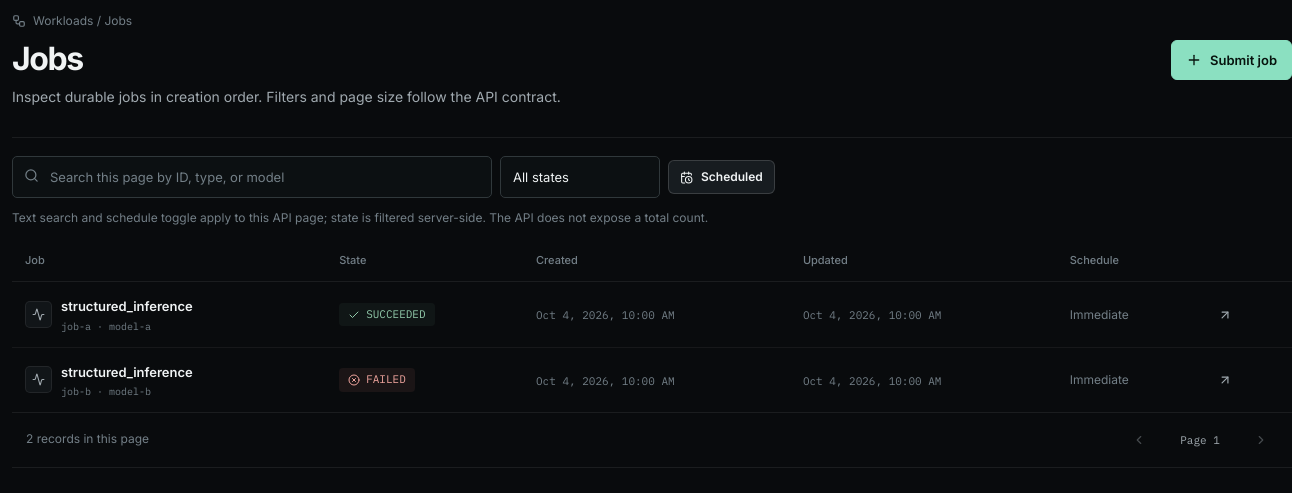
Test: jobs page › sends state filters to the API and searches only the returned page
Check: the text "job-a · model-a" is shown, box [61,320,151,333]
Select "FAILED" in the dropdown named "Filter by state" at (580, 177), box [500,156,660,198]
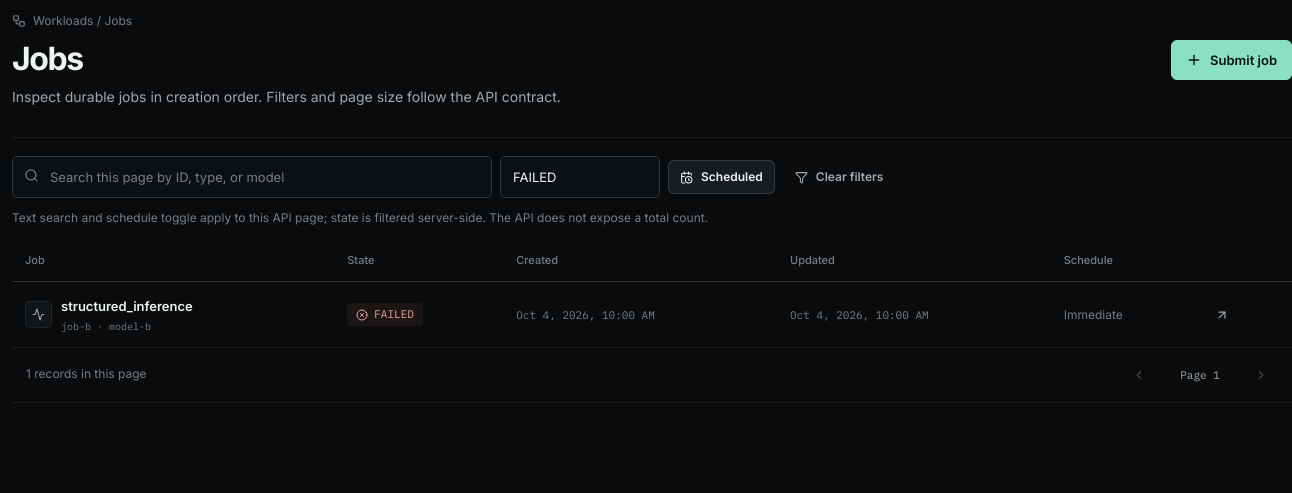
Check: the text "job-b · model-b" is shown, box [61,320,151,333]
Check: the link "job-a · model-a" is gone
Type "no-match" into the field named "Search visible jobs" at (252, 177), box [12,156,492,198]
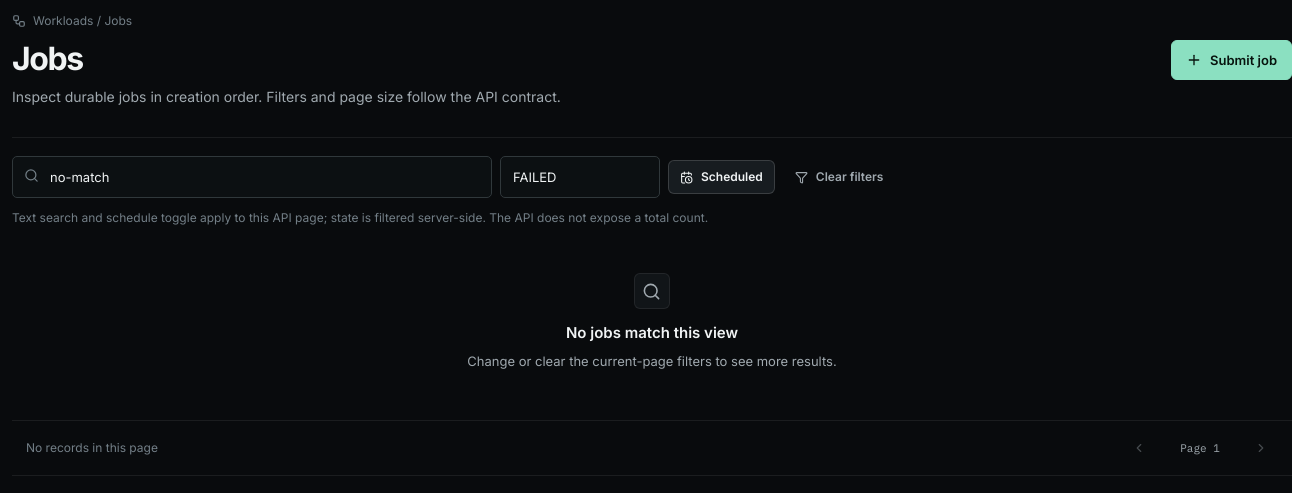
Check: the heading "No jobs match this view" is shown, box [566,323,738,342]
